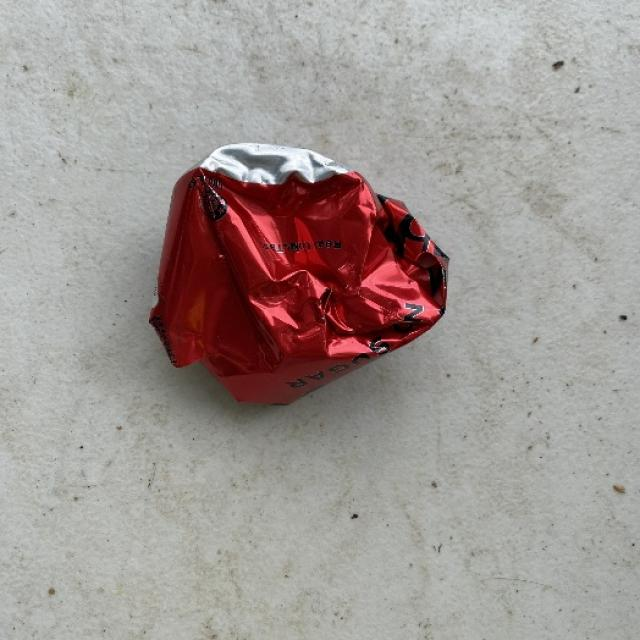metal: (148, 140, 449, 406)
